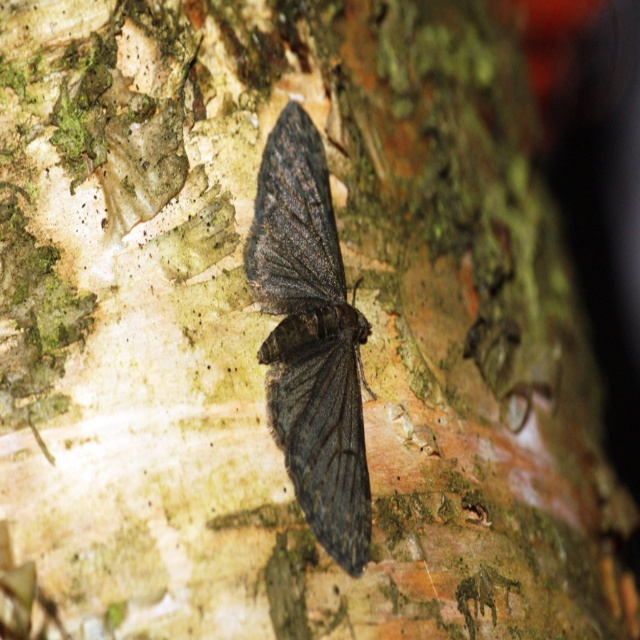Butterfly: (237, 76, 392, 595)
